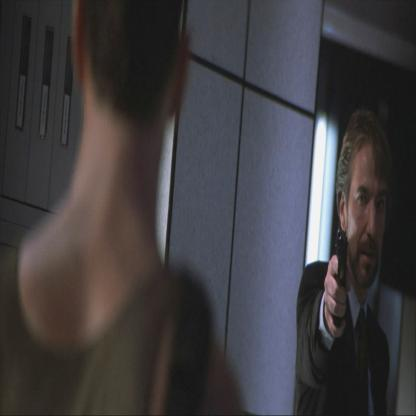gun: (325, 222, 354, 302)
